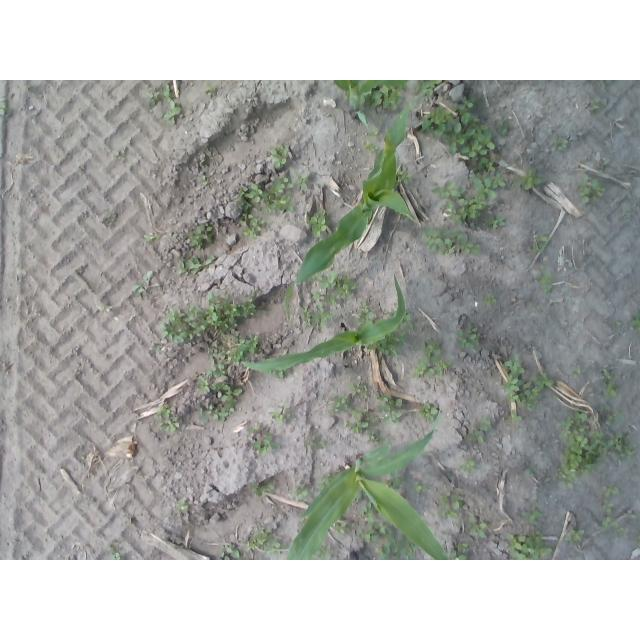Maize: (285, 100, 416, 325), (284, 429, 448, 559), (240, 273, 406, 370), (335, 81, 409, 131)
Weeds: (158, 292, 242, 344), (556, 411, 607, 490), (449, 113, 496, 155), (423, 226, 481, 255), (507, 533, 553, 560), (608, 433, 637, 464), (576, 174, 604, 204), (373, 86, 402, 111), (422, 107, 454, 129), (253, 433, 282, 456), (522, 381, 543, 412), (376, 533, 400, 559), (475, 175, 498, 202), (456, 325, 481, 349), (501, 353, 527, 376), (431, 181, 466, 198), (455, 197, 482, 219), (517, 169, 544, 191), (349, 410, 372, 434), (260, 538, 284, 559), (442, 200, 463, 222), (336, 274, 356, 296), (330, 395, 350, 417), (415, 81, 442, 97), (251, 528, 271, 549), (197, 409, 227, 423), (533, 372, 555, 391), (418, 402, 438, 422), (502, 374, 522, 394), (349, 383, 370, 402), (317, 269, 335, 291), (219, 385, 242, 401), (469, 518, 487, 538), (370, 516, 392, 532), (165, 101, 183, 120), (228, 345, 249, 361), (208, 341, 226, 359), (275, 195, 294, 212), (311, 216, 326, 237), (268, 410, 290, 424), (433, 356, 451, 373), (220, 545, 240, 560), (142, 272, 159, 289), (361, 528, 379, 544), (402, 535, 414, 559), (523, 510, 541, 526), (450, 550, 482, 559), (531, 236, 547, 252), (291, 487, 309, 501), (451, 491, 465, 509), (628, 310, 640, 331), (439, 508, 464, 518), (463, 431, 485, 442), (332, 522, 348, 537), (252, 483, 268, 498), (602, 383, 618, 398), (541, 272, 553, 292), (319, 544, 333, 561), (475, 155, 489, 172), (295, 172, 309, 189), (489, 217, 507, 230), (492, 171, 505, 189), (300, 307, 312, 326), (429, 337, 441, 355), (197, 377, 211, 392), (161, 421, 180, 432), (251, 183, 262, 202), (154, 405, 170, 418), (188, 257, 201, 273), (460, 460, 476, 473), (246, 334, 258, 351), (235, 198, 252, 210), (476, 420, 493, 432), (564, 530, 584, 540), (398, 172, 413, 185), (316, 436, 332, 448), (602, 485, 619, 496), (242, 303, 256, 316), (391, 412, 405, 425), (552, 137, 566, 150), (420, 343, 432, 358), (590, 97, 602, 112), (243, 227, 258, 239), (201, 225, 213, 240), (390, 473, 402, 488), (205, 370, 227, 378), (149, 92, 160, 108), (499, 120, 509, 137), (152, 343, 165, 356), (604, 370, 617, 383), (187, 234, 200, 247), (274, 153, 286, 167), (262, 191, 274, 205), (484, 292, 498, 304), (363, 140, 378, 151), (385, 345, 397, 358), (460, 97, 473, 109), (252, 218, 264, 231), (273, 180, 285, 193), (603, 517, 615, 530), (529, 530, 542, 542), (327, 295, 341, 306), (130, 287, 145, 297), (406, 314, 415, 330), (434, 124, 446, 136), (249, 290, 260, 303), (603, 501, 614, 514), (508, 411, 521, 422), (319, 311, 334, 320), (624, 510, 639, 519), (419, 359, 431, 370), (378, 393, 390, 404), (176, 499, 189, 509), (306, 434, 314, 450), (378, 404, 392, 413), (598, 403, 612, 412), (225, 401, 236, 412), (206, 87, 218, 97), (440, 493, 452, 503), (359, 301, 368, 314), (371, 431, 380, 444), (370, 413, 379, 426), (247, 424, 260, 433), (177, 262, 186, 275), (210, 364, 226, 371), (99, 306, 113, 314), (614, 412, 625, 422), (284, 179, 294, 190), (459, 542, 470, 552), (364, 503, 373, 515), (112, 552, 124, 561), (201, 160, 210, 172), (606, 414, 614, 427), (319, 480, 329, 490), (207, 254, 217, 264), (367, 310, 376, 321), (599, 160, 610, 169), (1, 103, 8, 116), (164, 84, 171, 97), (312, 294, 322, 303), (376, 346, 387, 354), (266, 481, 274, 492), (145, 232, 156, 240), (397, 330, 409, 337), (214, 381, 223, 390), (392, 398, 401, 407), (572, 370, 581, 379), (388, 332, 396, 342), (414, 370, 424, 378), (237, 186, 247, 194), (414, 482, 422, 492), (509, 394, 519, 402), (314, 210, 327, 216), (278, 370, 285, 381), (241, 222, 252, 229), (380, 338, 389, 346), (486, 162, 494, 171), (268, 149, 278, 156), (203, 175, 210, 185), (314, 302, 322, 310), (108, 547, 117, 554), (430, 367, 437, 376), (244, 211, 253, 218), (397, 337, 403, 347), (318, 319, 325, 327), (281, 146, 289, 153), (616, 528, 624, 535), (526, 468, 535, 474), (324, 473, 331, 480), (265, 207, 272, 214), (623, 209, 630, 216), (7, 109, 13, 117), (206, 150, 212, 158), (370, 131, 379, 136), (199, 238, 203, 249), (423, 483, 429, 490), (615, 321, 621, 328), (113, 150, 119, 156), (171, 119, 176, 126), (197, 227, 202, 233), (206, 238, 213, 242), (165, 96, 171, 100), (260, 207, 264, 210)
